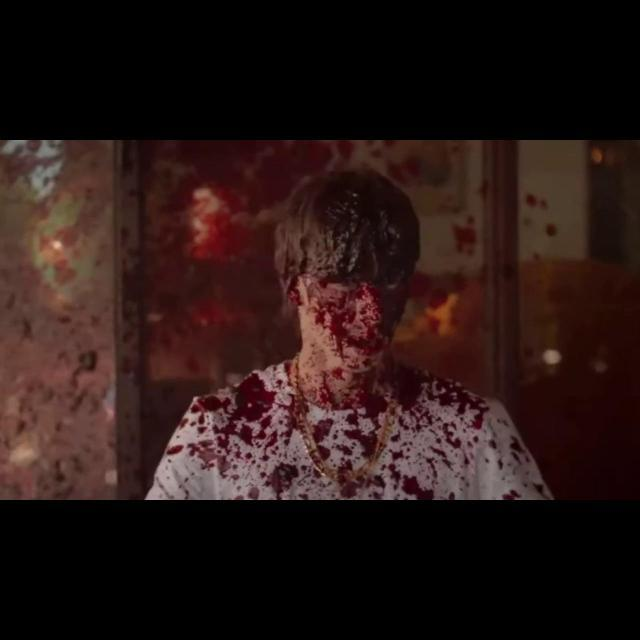blood: (0, 140, 563, 500)
